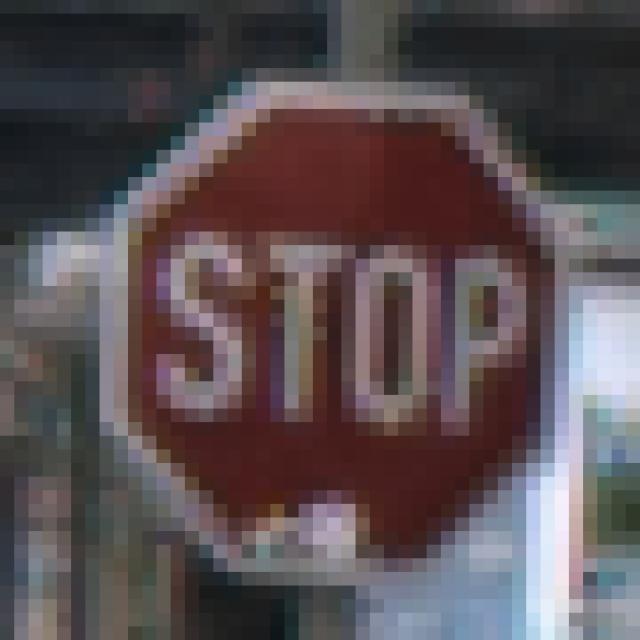STOP: (86, 69, 570, 573)
